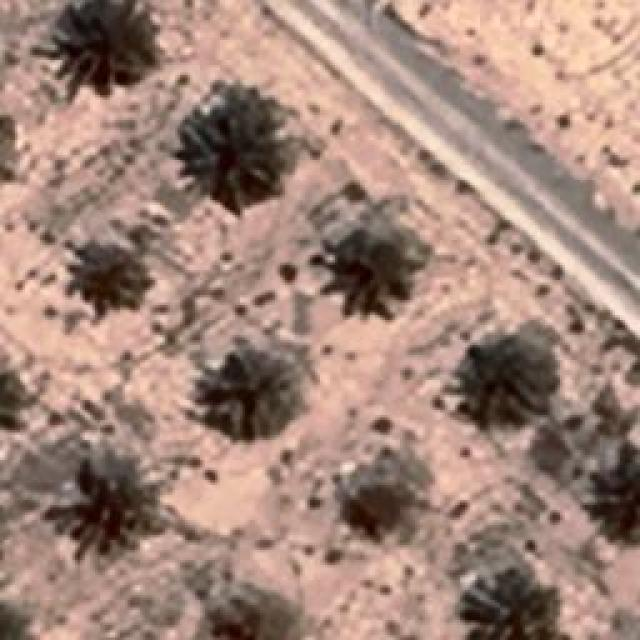PalmTree: (180, 94, 290, 208), (48, 452, 150, 560), (445, 330, 553, 430), (210, 340, 310, 435), (327, 210, 415, 310), (61, 0, 149, 90), (69, 230, 149, 312), (462, 572, 560, 638), (592, 458, 640, 540), (0, 341, 36, 430), (0, 591, 41, 640)
